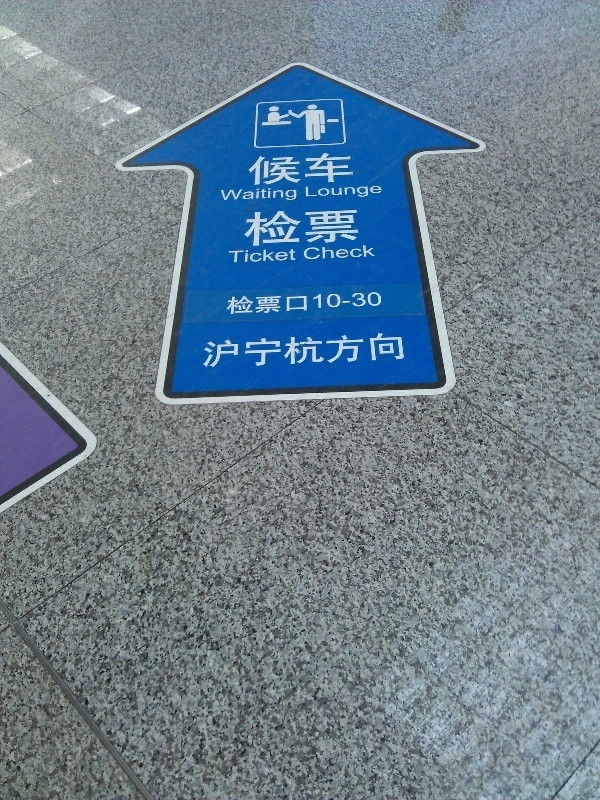text: (257, 205, 272, 248), (273, 205, 288, 248), (289, 205, 304, 248), (305, 205, 320, 248), (321, 205, 336, 248), (337, 205, 352, 248), (209, 332, 224, 370), (225, 332, 240, 370), (241, 332, 256, 370), (257, 332, 272, 370), (273, 332, 288, 370), (289, 332, 304, 370), (305, 332, 320, 370), (321, 332, 336, 370), (337, 332, 352, 370), (353, 332, 368, 370), (369, 332, 384, 370), (385, 332, 400, 370), (243, 205, 256, 248), (257, 151, 272, 188), (273, 151, 288, 188), (289, 151, 304, 188), (305, 151, 320, 188), (321, 151, 336, 188), (337, 151, 352, 188), (369, 289, 385, 317), (241, 289, 256, 317), (257, 289, 272, 317), (273, 289, 288, 317), (289, 289, 304, 317), (305, 289, 320, 317), (321, 289, 336, 317), (337, 289, 352, 317), (353, 289, 368, 317), (226, 289, 240, 317), (353, 205, 361, 248), (247, 151, 256, 188), (305, 182, 320, 201), (321, 182, 336, 201), (337, 182, 352, 201), (353, 182, 368, 201), (369, 182, 384, 201), (305, 243, 320, 262), (321, 243, 336, 262), (337, 243, 352, 262), (353, 243, 368, 262), (225, 186, 240, 204), (241, 186, 256, 204), (257, 186, 272, 204), (273, 186, 288, 204), (401, 332, 408, 370), (241, 248, 256, 265), (257, 248, 272, 265), (273, 248, 288, 265), (202, 332, 208, 370), (229, 248, 240, 265), (289, 186, 298, 204), (369, 243, 377, 262), (353, 151, 357, 188), (289, 248, 297, 265), (220, 186, 224, 204), (303, 243, 304, 262)
